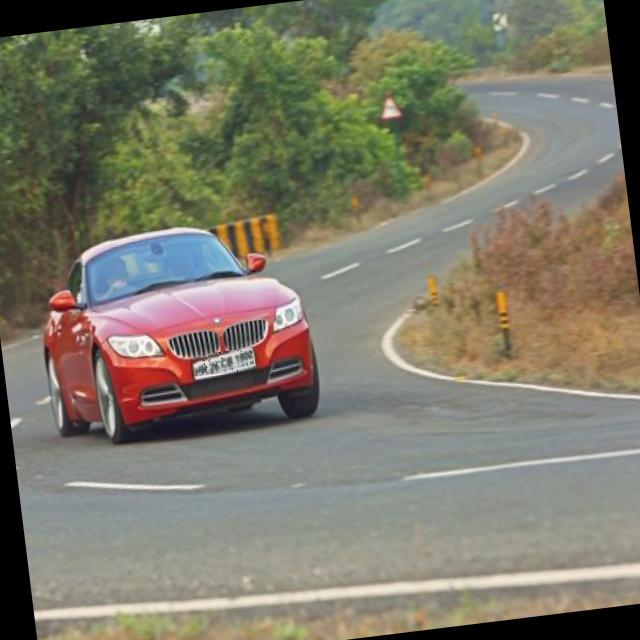Plate: (191, 349, 256, 378)
